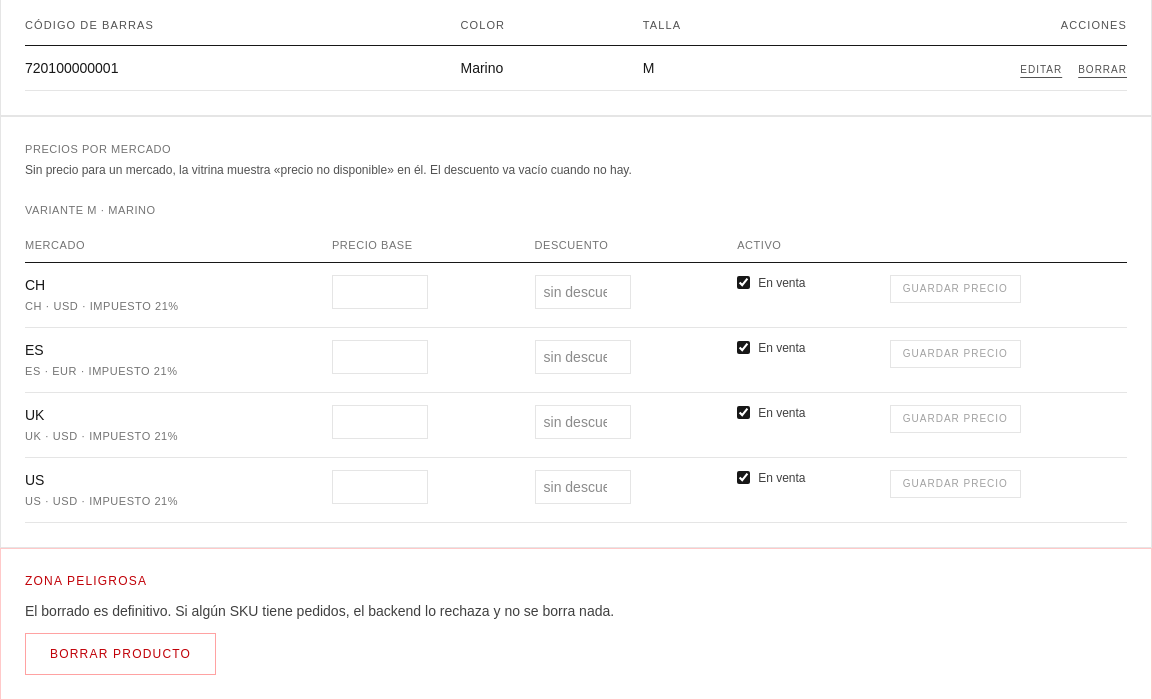
Test: EdicionProductoPage (admin) › borrar el producto con pedidos -> 409 traducido y se queda en la página
(page scrolled)
Click the button "Borrar producto": (121, 654) [25, 633, 216, 675]
(page scrolled)
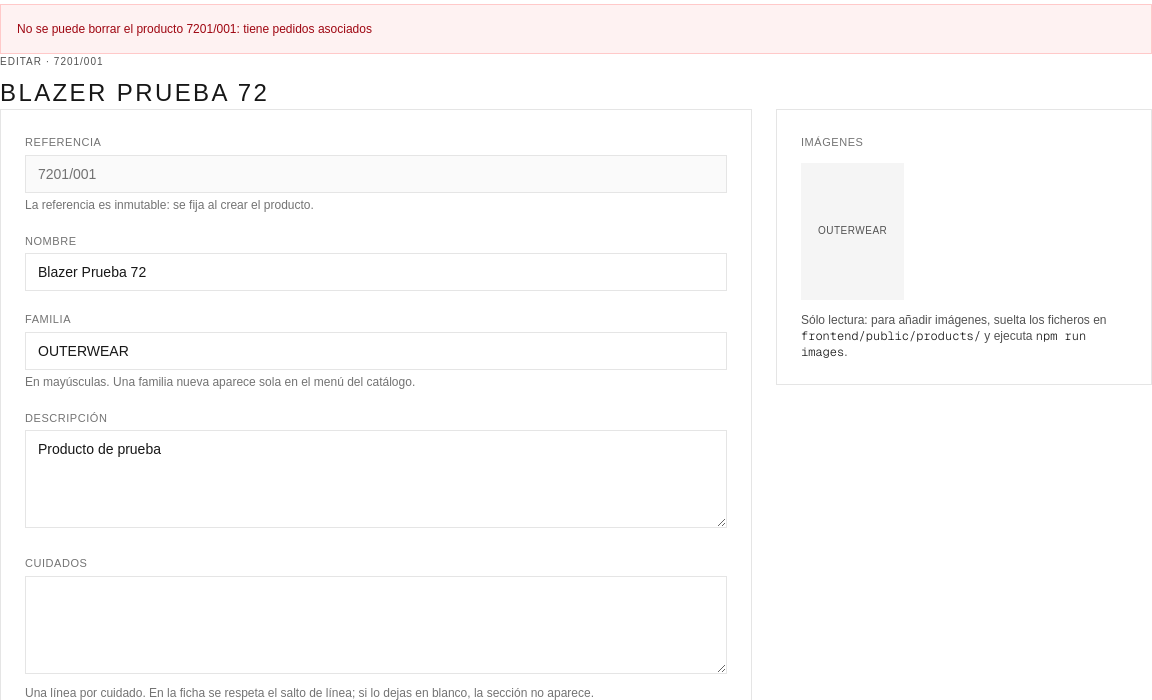
Now the text "No se puede borrar el producto 7201/001: tiene pedidos asociados" is shown, box [0, 4, 1151, 54]
